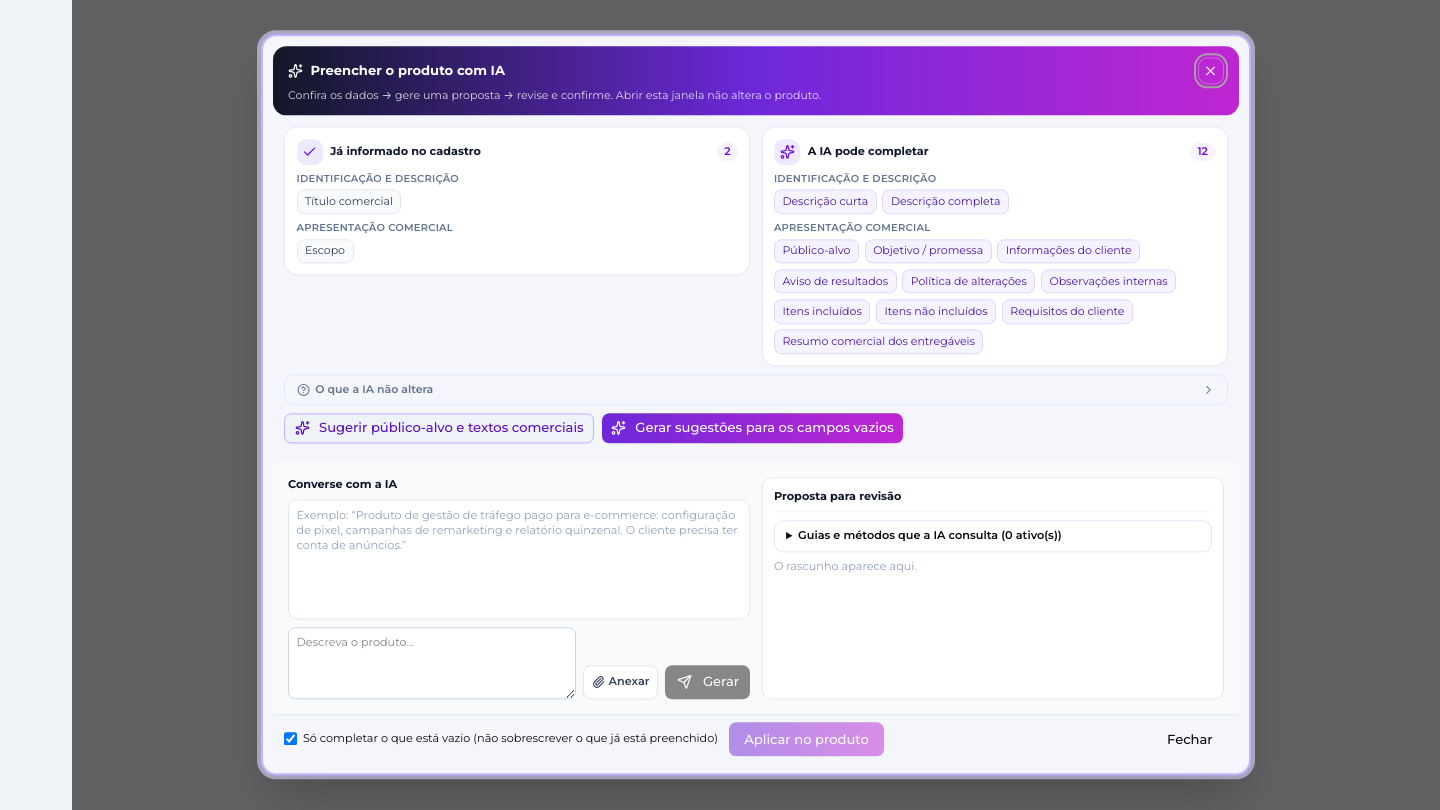
Test: IA que preenche o produto (P-8) › no teste identifica título sozinho, campos vazios e exige confirmar gerar e aplicar
Later steps or results of the test are not shown.
Expected: the element with test id "ai-filled-fields" shows "Título comercial", [305,194,393,208]
Expected: the element with test id "ai-filled-fields" shows "Escopo", [305,244,345,258]
Click the button with test id "ai-generate-from-inputs".
click(752, 428)  # box [602,413,903,443]
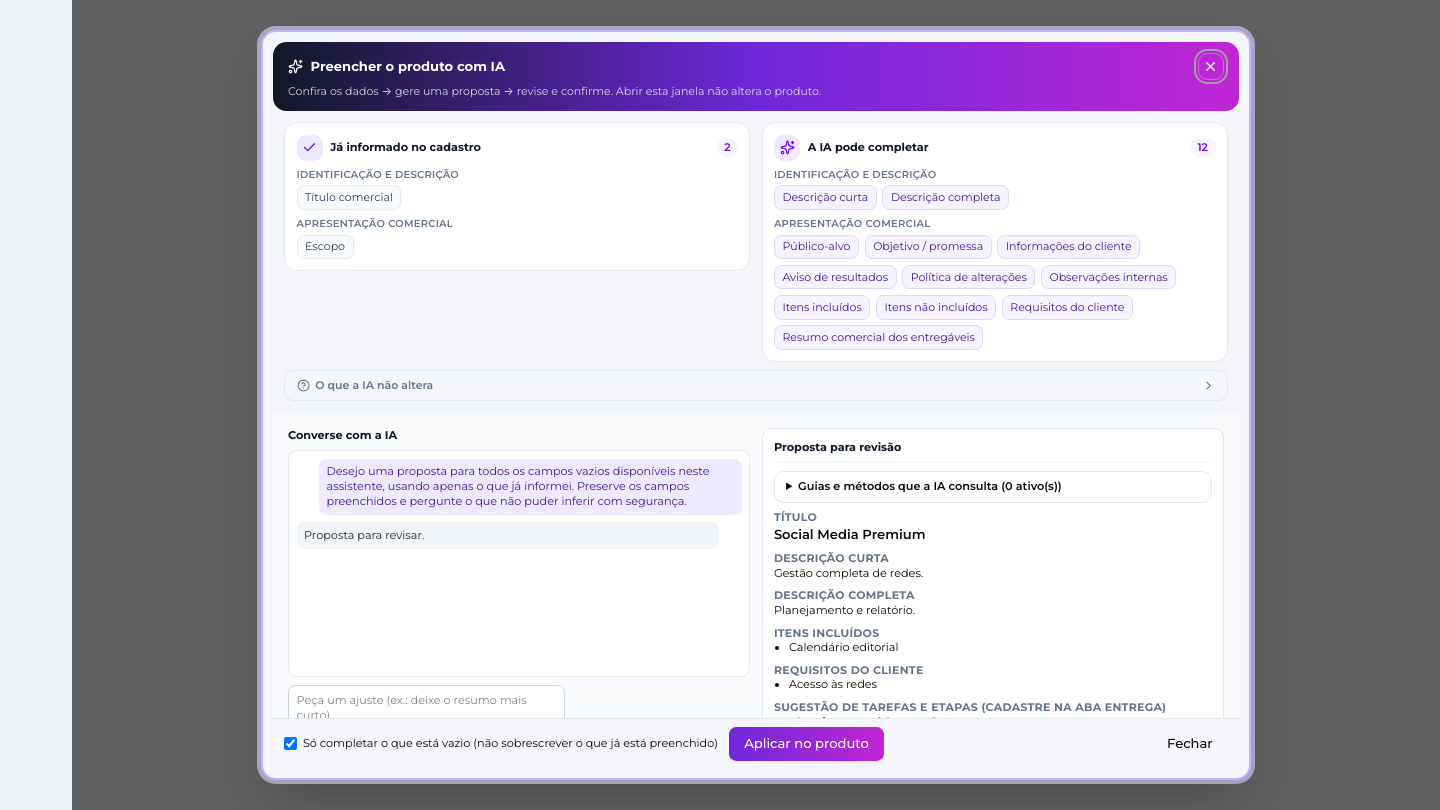
Expected: the list item "Proposta para revisar." is shown, [296,522,719,549]
Click the button with test id "apply-draft".
click(807, 744)  # box [729,727,884,761]
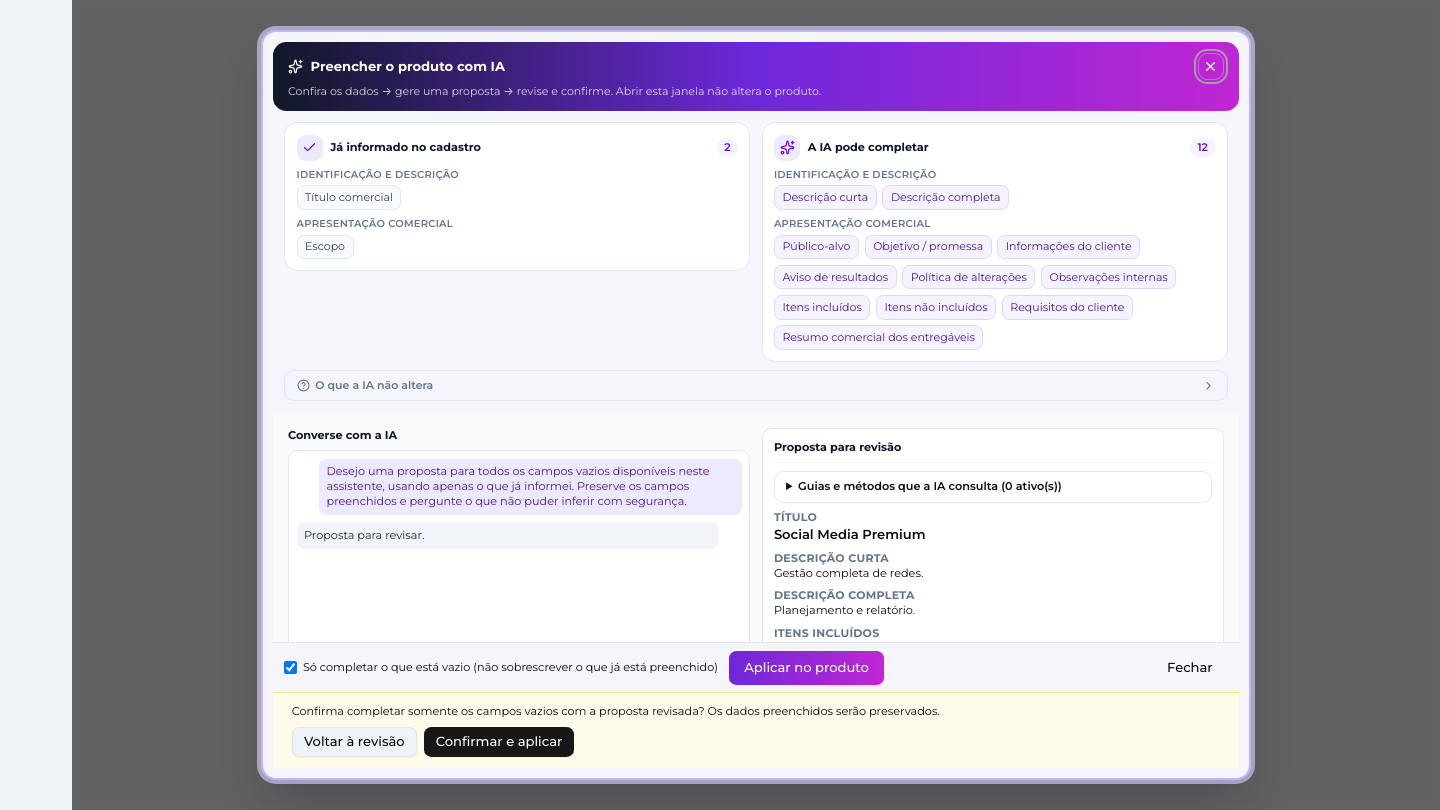
Expected: the dialog named "Confirmar aplicação das sugestões" shows "somente os campos vazios", [292,704,940,718]
